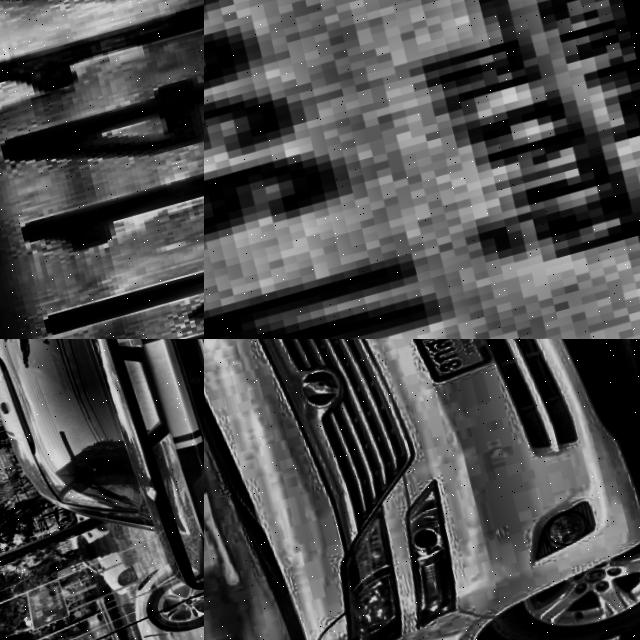license-plate: (204, 0, 640, 339), (0, 0, 204, 339), (389, 339, 498, 390)
